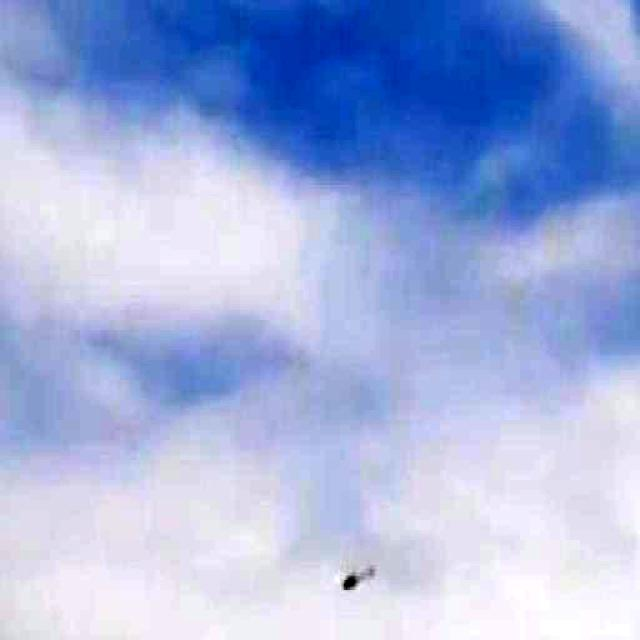drone: (335, 550, 378, 602)
